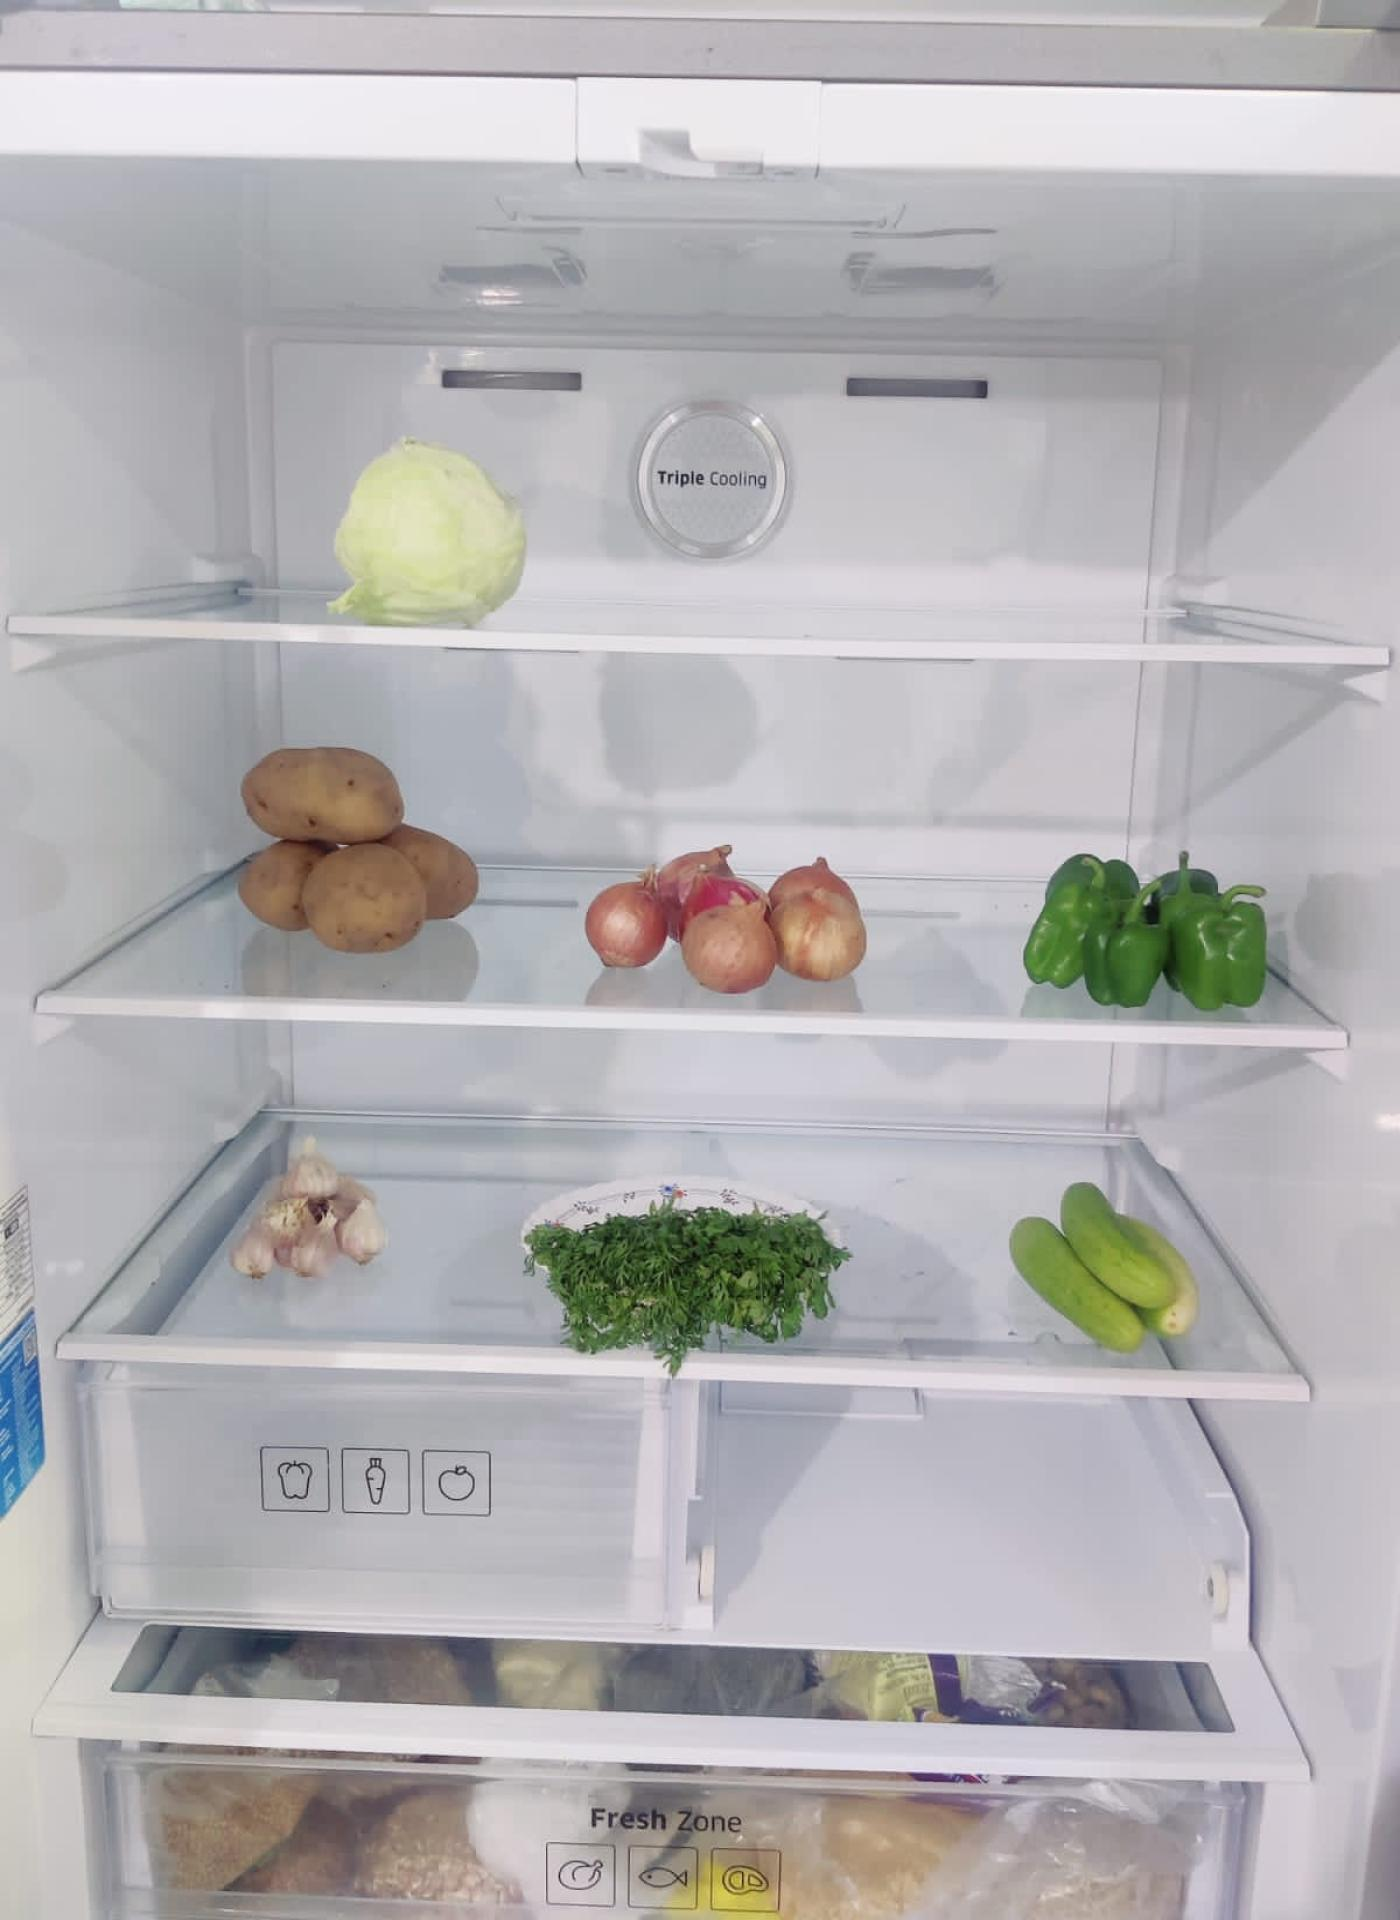cabbage: (338, 432, 534, 622)
capsicum: (1021, 859, 1269, 1018)
carrots: (239, 750, 482, 959)
coriander: (535, 1203, 847, 1354)
cucumber: (1006, 1179, 1208, 1352)
garlic: (228, 1143, 383, 1289)
onion: (584, 845, 871, 990)
